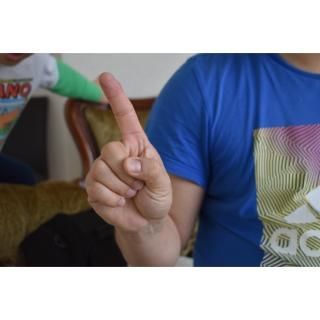BAA: (83, 67, 179, 234)
